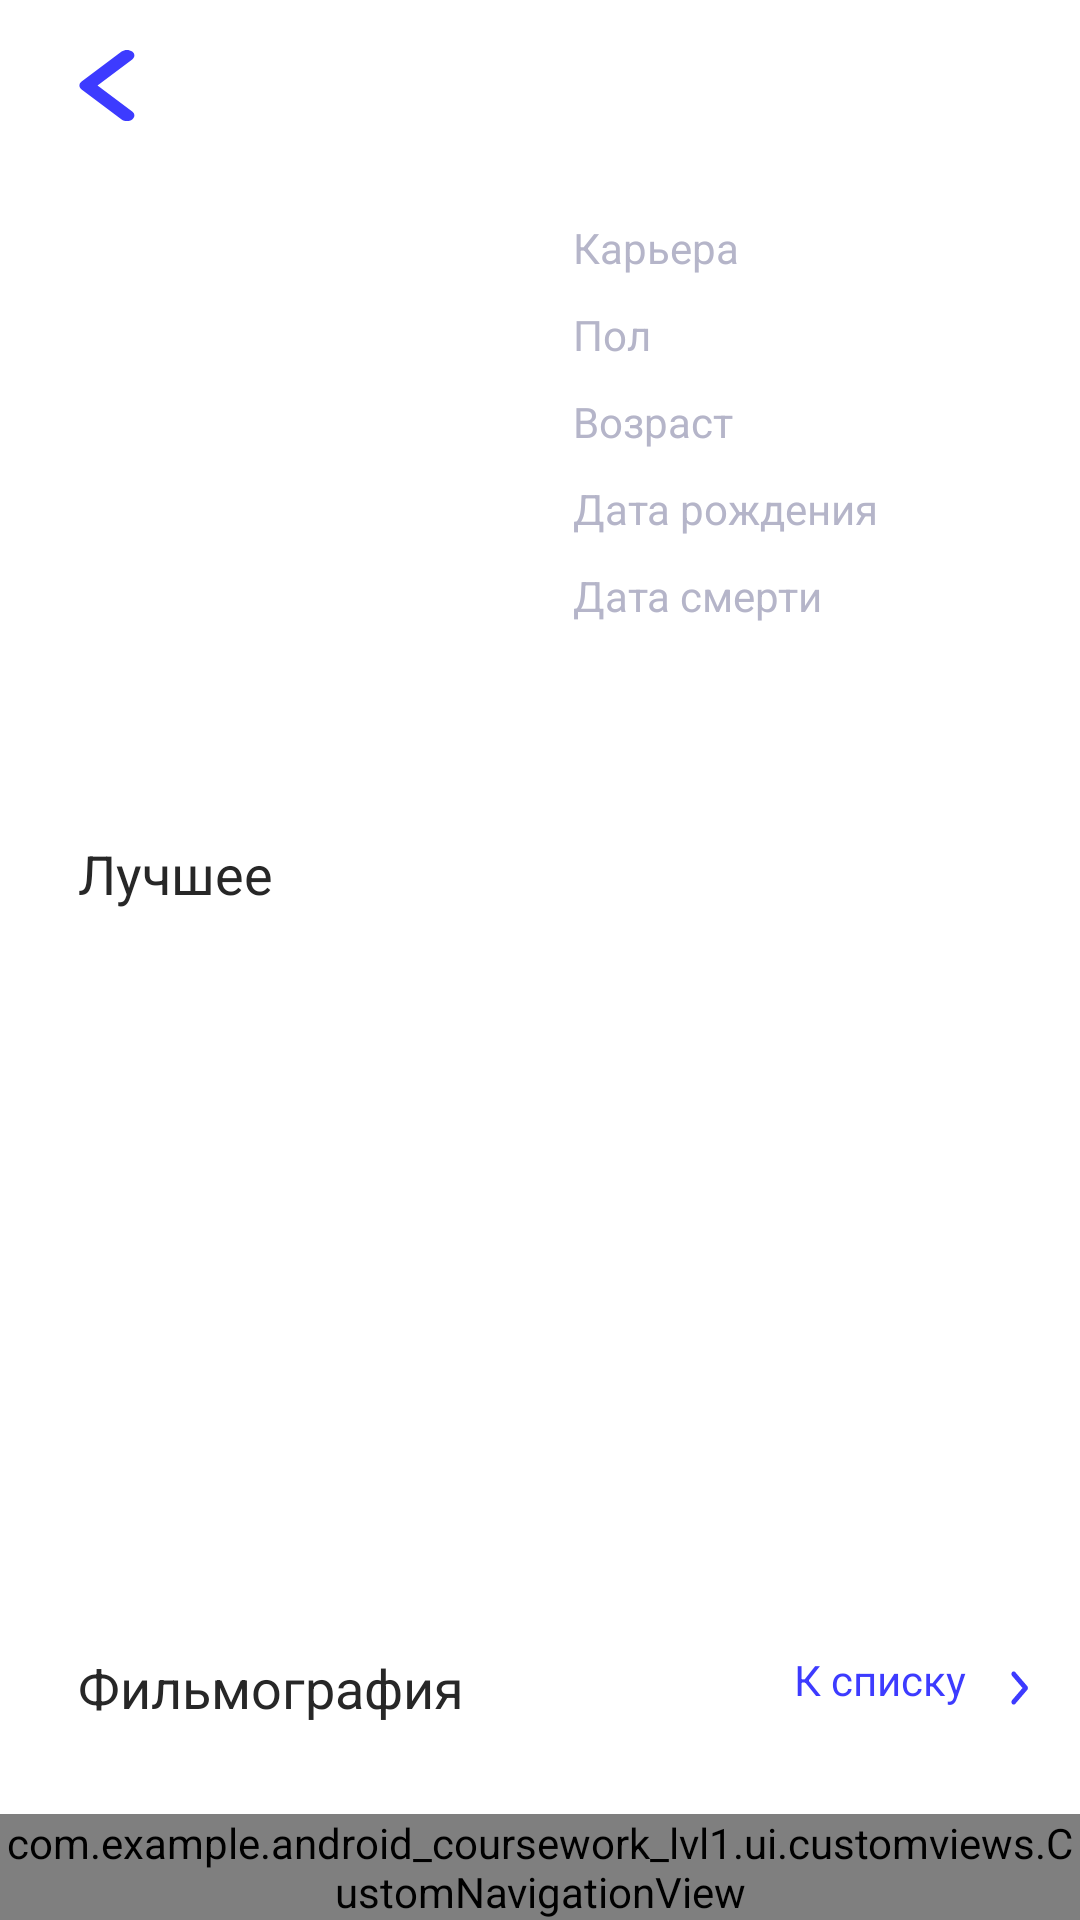

Icon click points for this 1080w x 1920h phone screenshot, format [x,y]:
back: [107,85]
